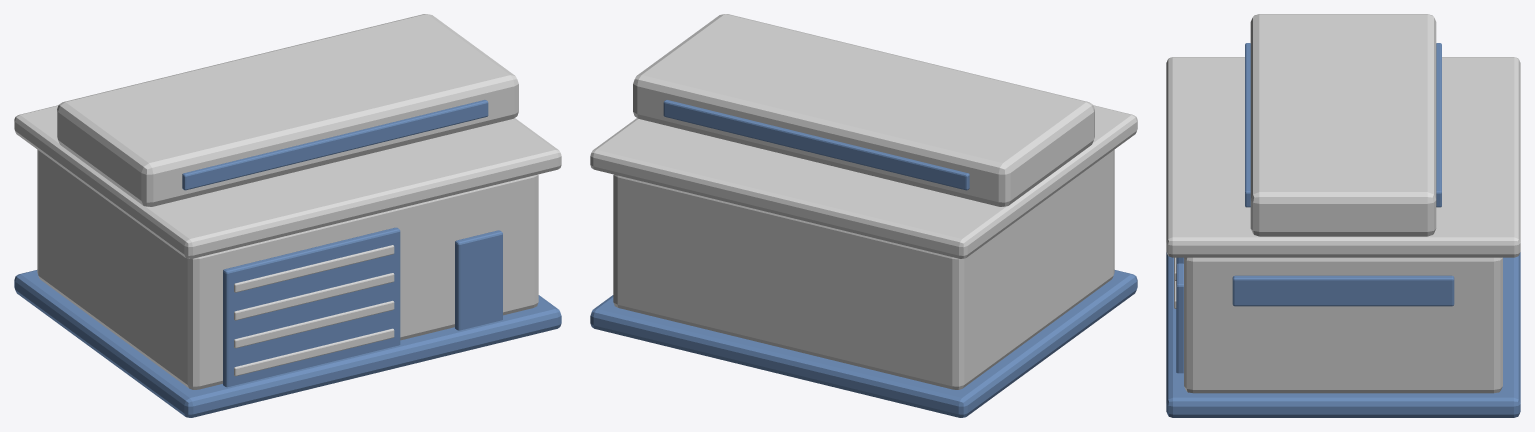
Rendered from warehouse.glb.
3 views of the same model, side by side, from view 1: azimuth 30°, elevation 25°; view 2: azimuth 150°, elevation 25°; view 3: azimuth 270°, elevation 25° (orthographic).
Visible parts, largest first — view 1: clerestory, hall, roof, door, slab, skylight.1, side-door, slat.3, slat.1, slat.2, slat.0; view 2: hall, clerestory, roof, slab, skylight.-1; view 3: clerestory, hall, roof, slab, window-strip, skylight.1, skylight.-1, side-door.
Part boxes in pixels (x1,y1,x2,y2): clerestory: (57, 14, 518, 206); hall: (37, 149, 538, 389); roof: (14, 105, 561, 258); door: (223, 227, 400, 387); slab: (14, 270, 561, 417); skylight.1: (182, 100, 488, 190); side-door: (455, 230, 502, 330); slat.3: (234, 245, 394, 292); slat.1: (234, 300, 394, 348); slat.2: (234, 273, 394, 320); slat.0: (234, 328, 394, 376); hall: (613, 149, 1114, 389); clerestory: (633, 14, 1094, 206); roof: (590, 105, 1137, 258); slab: (590, 270, 1137, 417); skylight.-1: (663, 100, 969, 190); clerestory: (1250, 14, 1436, 236); hall: (1184, 257, 1502, 393); roof: (1166, 57, 1520, 257); slab: (1166, 252, 1520, 417); window-strip: (1232, 275, 1454, 306); skylight.1: (1245, 43, 1250, 207); skylight.-1: (1436, 43, 1441, 207); side-door: (1176, 263, 1183, 373).
Size of the model in its own units: 1.98 by 1.12 by 1.6.
